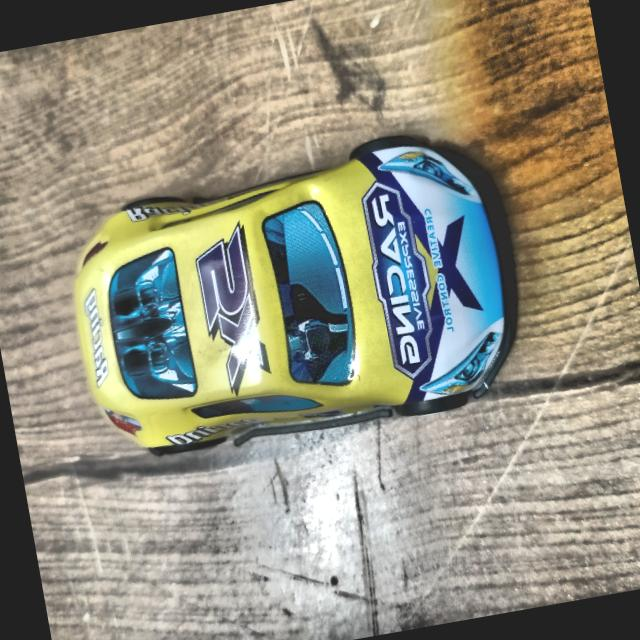Car: (55, 121, 526, 469)
